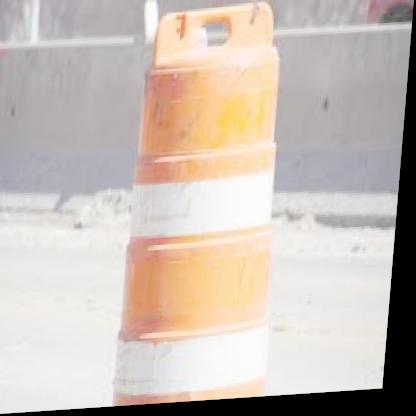obstacle: (117, 11, 299, 406)
